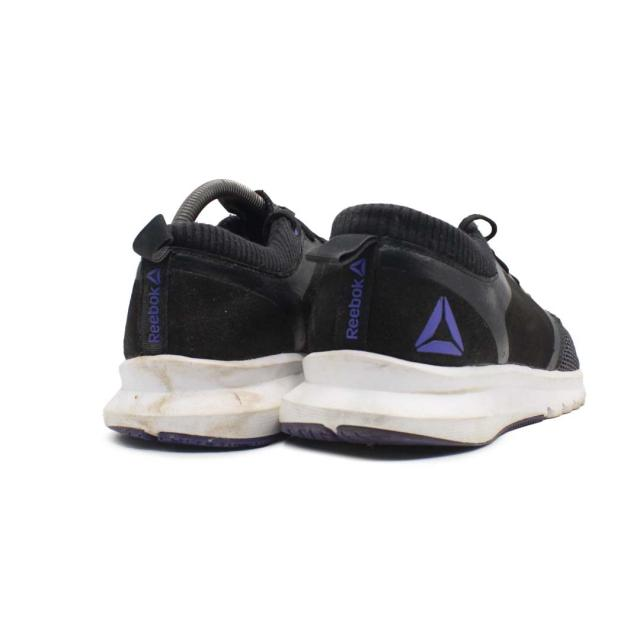heel: (307, 198, 495, 363), (123, 211, 296, 360)
midsole: (280, 349, 586, 446), (101, 355, 304, 450)
